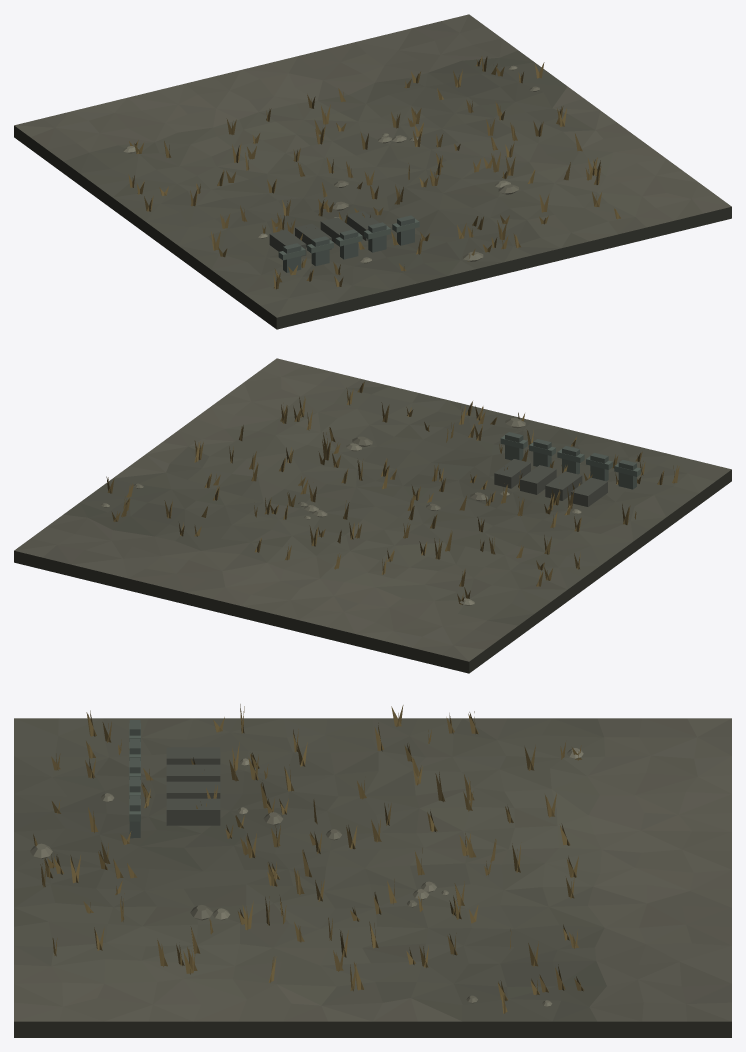
File: CHUNK_oath_battlefield__supply_trenches__01.glb
The picture shows the model from 3 angles, top to bottom: view 1: azimuth 30°, elevation 25°; view 2: azimuth 150°, elevation 25°; view 3: azimuth 270°, elevation 25°; orthographic projection. The views are drawn at different scales.
Parts seen in each view (by area): view 1: CHUNK_oath_battlefield__supply_trenches__01; view 2: CHUNK_oath_battlefield__supply_trenches__01; view 3: CHUNK_oath_battlefield__supply_trenches__01.
Part boxes in pixels (bbox=[...]): CHUNK_oath_battlefield__supply_trenches__01: bbox=[14, 14, 731, 329]; CHUNK_oath_battlefield__supply_trenches__01: bbox=[14, 358, 731, 673]; CHUNK_oath_battlefield__supply_trenches__01: bbox=[14, 704, 731, 1037].
Bounding box in the file's own units: 8 × 0.61 × 8.
